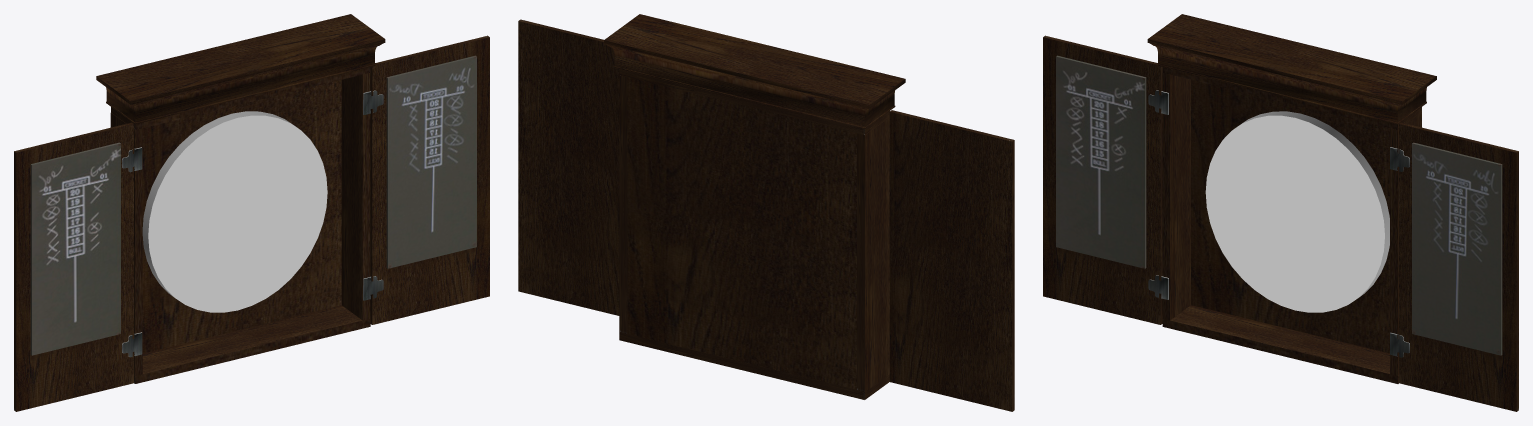
File: Dart board.FBX
3 views of the same model, side by side, from view 1: azimuth 30°, elevation 25°; view 2: azimuth 150°, elevation 25°; view 3: azimuth 330°, elevation 25° (orthographic). The views are drawn at different scales.
Visible parts, largest first — view 1: Dart board; view 2: Dart board; view 3: Dart board.
Boxes of the visible parts, bbox=[...] form: Dart board: bbox=[14, 14, 489, 411]; Dart board: bbox=[518, 14, 1014, 411]; Dart board: bbox=[1043, 14, 1518, 411].
Bounding box in the file's own units: 209 × 122 × 26.23.
